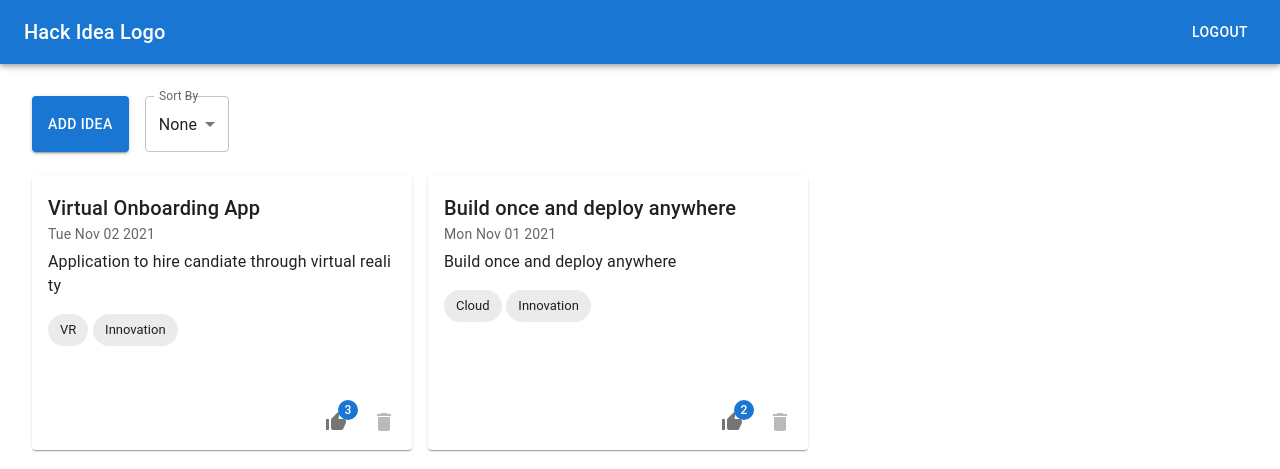
it: Test Home page › Clicking on like icon should increase the votecount
Expected: the text "3" is shown, [338,400,358,420]
Click the button with class "hc__card__badge" at (336, 422), box [316,402,356,442]
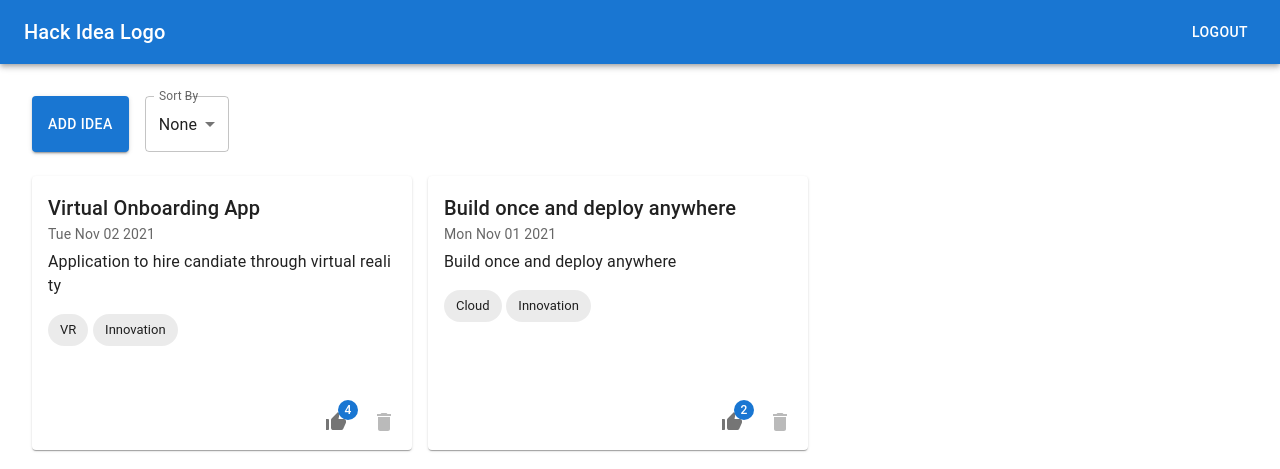
Expected: the text "4" is shown, [338,400,358,420]
